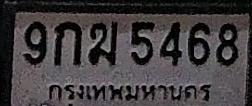4: (160, 21, 182, 66)
5: (130, 21, 154, 65)
6: (188, 22, 210, 65)
8: (216, 22, 238, 66)
9: (24, 21, 46, 65)
A01: (54, 22, 81, 66)
A06: (88, 21, 118, 65)
BKK: (43, 80, 214, 102)
